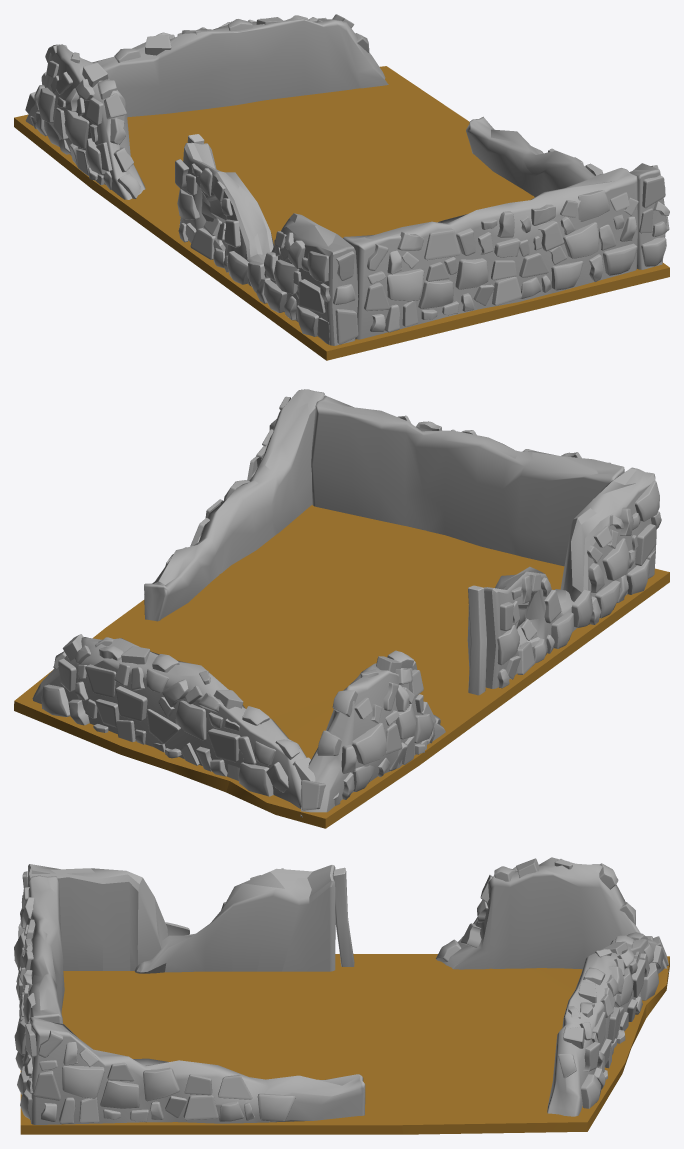
File: MSH_Static_House_C.fbx
The picture shows the model from 3 angles, top to bottom: view 1: azimuth 30°, elevation 25°; view 2: azimuth 150°, elevation 25°; view 3: azimuth 270°, elevation 25°; orthographic projection. The views are drawn at different scales.
Parts seen in each view (by area): view 1: group60; view 2: group60; view 3: group60.
Part boxes in pixels (bbox=[...]): group60: bbox=[14, 14, 669, 360]; group60: bbox=[14, 389, 669, 828]; group60: bbox=[14, 857, 669, 1134].
Bounding box in the file's own units: 31.35 × 9.1 × 47.92.
